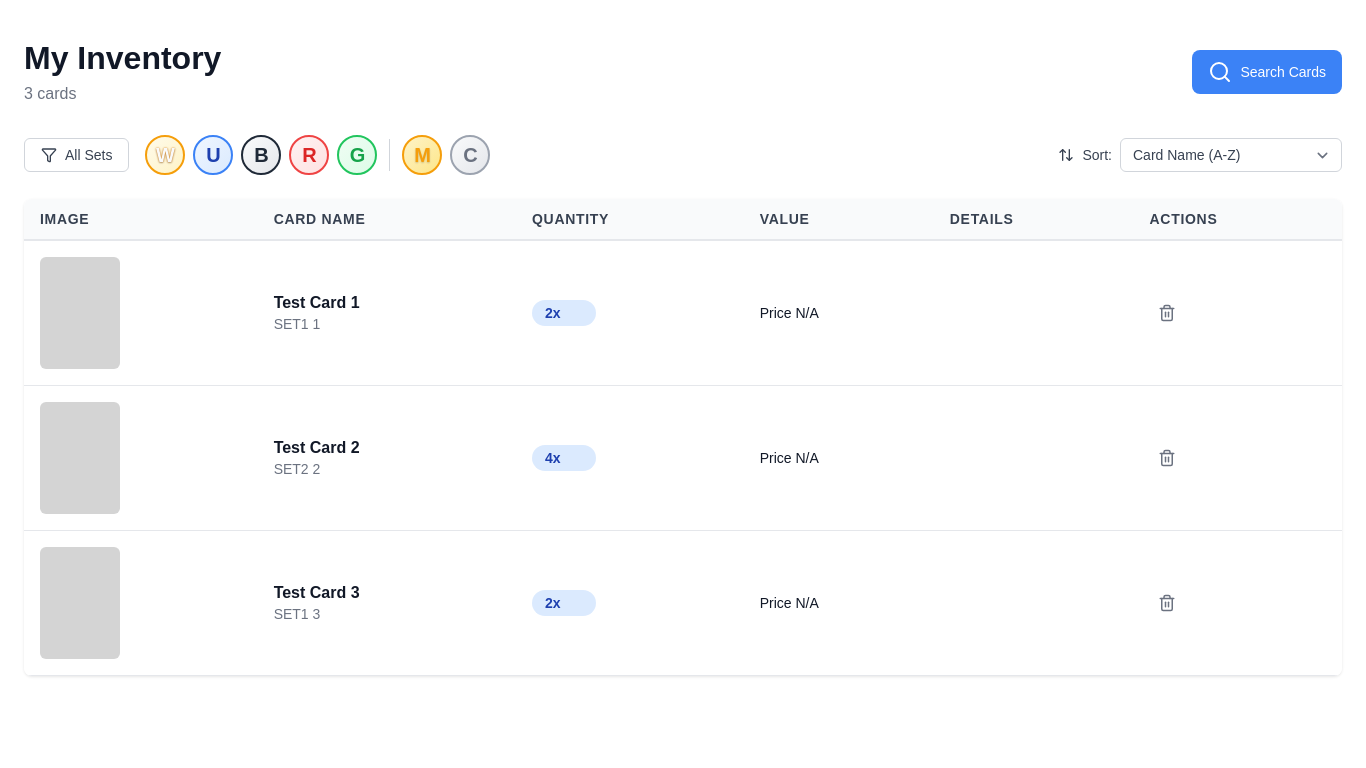
Test case: Backend Pagination - Backwards Compatibility › maintains filtering functionality with backend pagination
The width and height of the screenshot is (1366, 768).
Expected: the text "Test Card 1" is shown, left=274, top=294, right=360, bottom=311
Expected: the text "Test Card 2" is shown, left=274, top=439, right=360, bottom=456
Click the button with aria-label "filter by set": click(77, 155) left=24, top=138, right=130, bottom=172
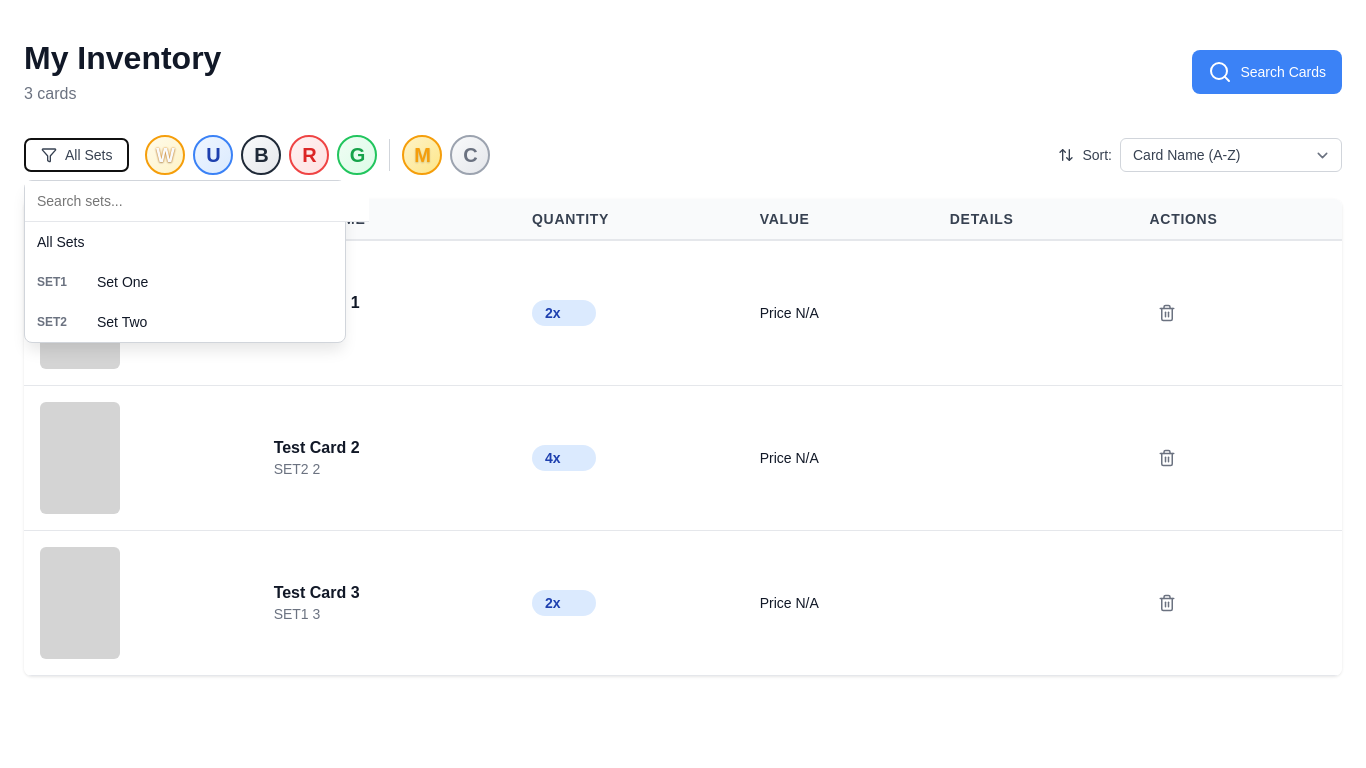
Expected: the text "Set One" is shown
Click the text "Set One": click(123, 282) left=97, top=274, right=148, bottom=290
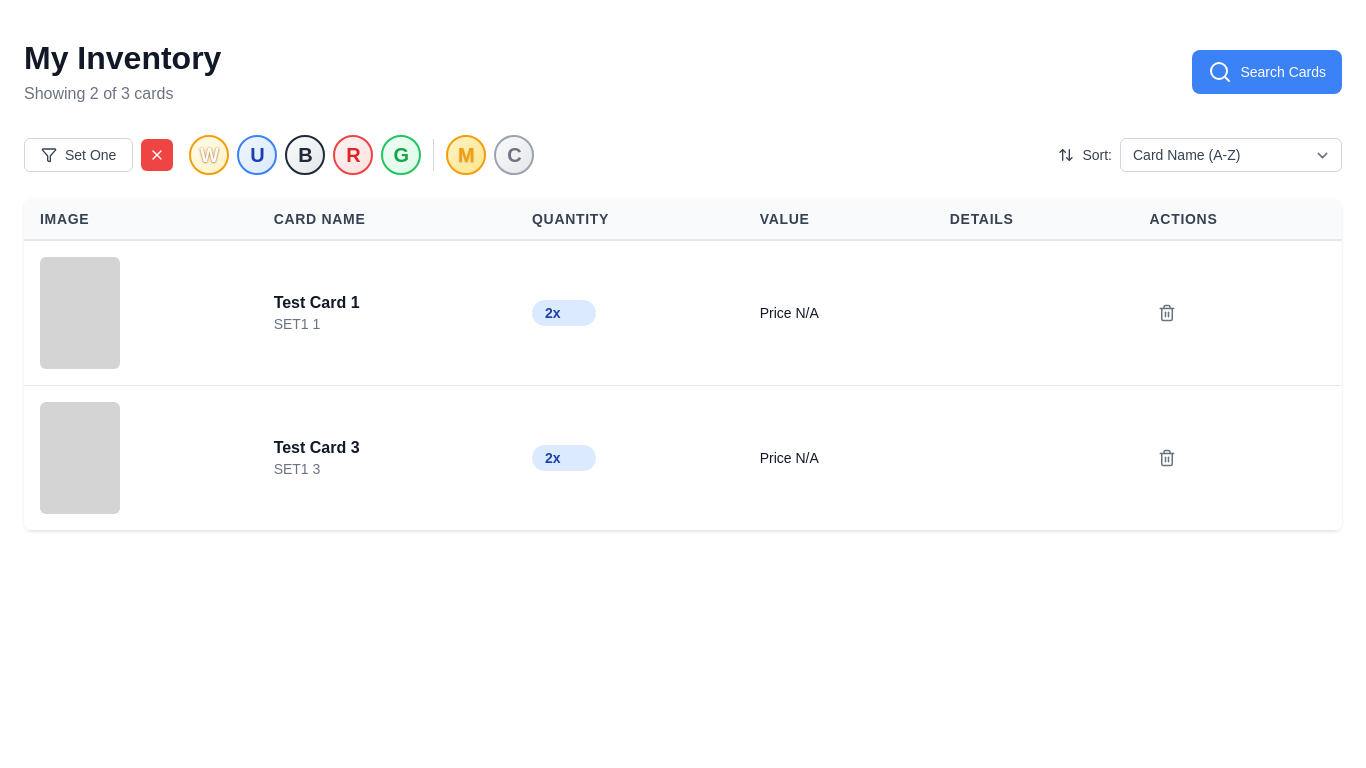
Expected: the text "Test Card 1" is shown, left=274, top=294, right=360, bottom=311
Expected: the text "Test Card 2" is gone
Expected: the text "Showing 2 of 3 cards" is shown, left=24, top=85, right=173, bottom=102
